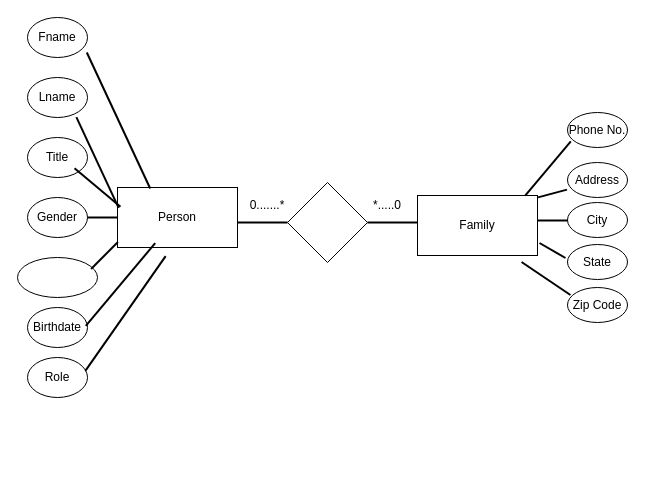
The diagram is 645 pixels wide and 503 high, and some of its shapes have lost their labels. Here are the shapes that lost their labels. From the top down, the box of each, then its label:
(286, 182, 368, 262): Part of
(16, 256, 98, 298): Membership
